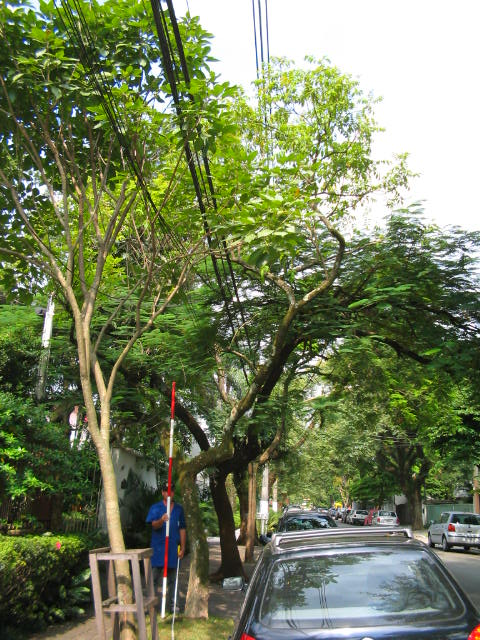stick: (159, 382, 183, 617)
